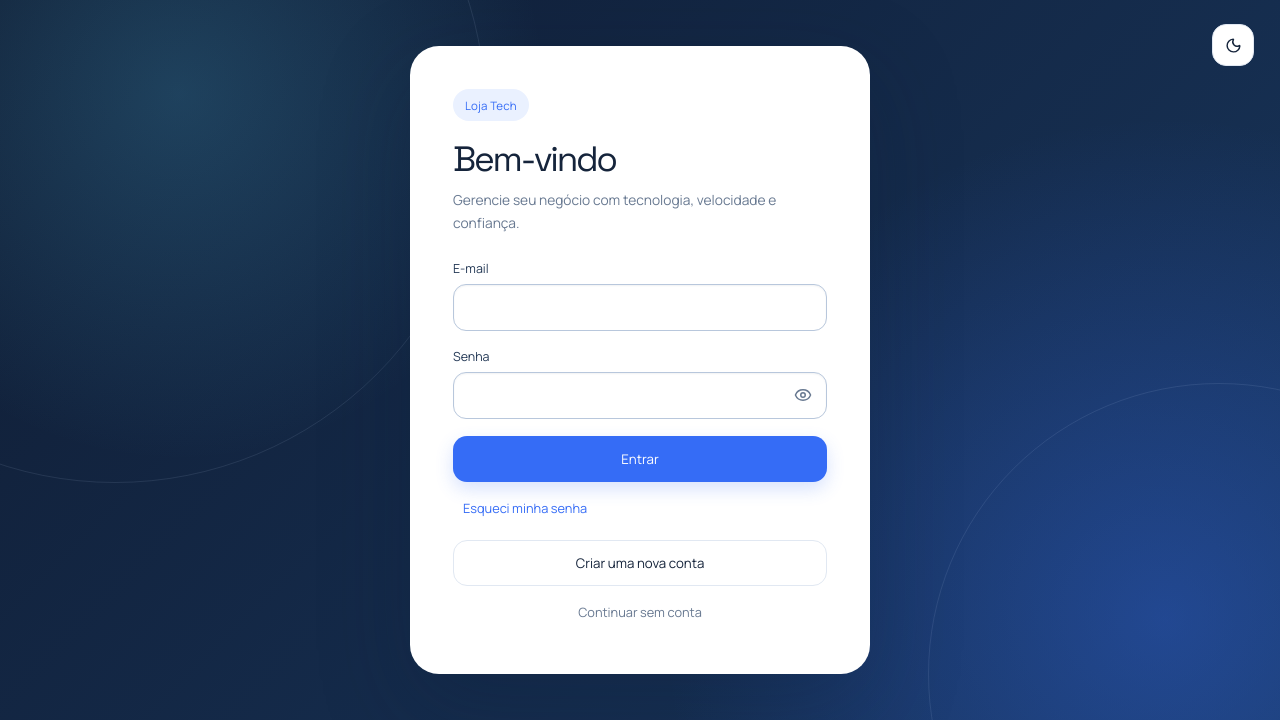
Test: recuperação de senha › o modo local abre diretamente a redefinição com o token recebido
Step 1. Click the button "Esqueci minha senha" → [525, 508], box left=453, top=489, right=597, bottom=527
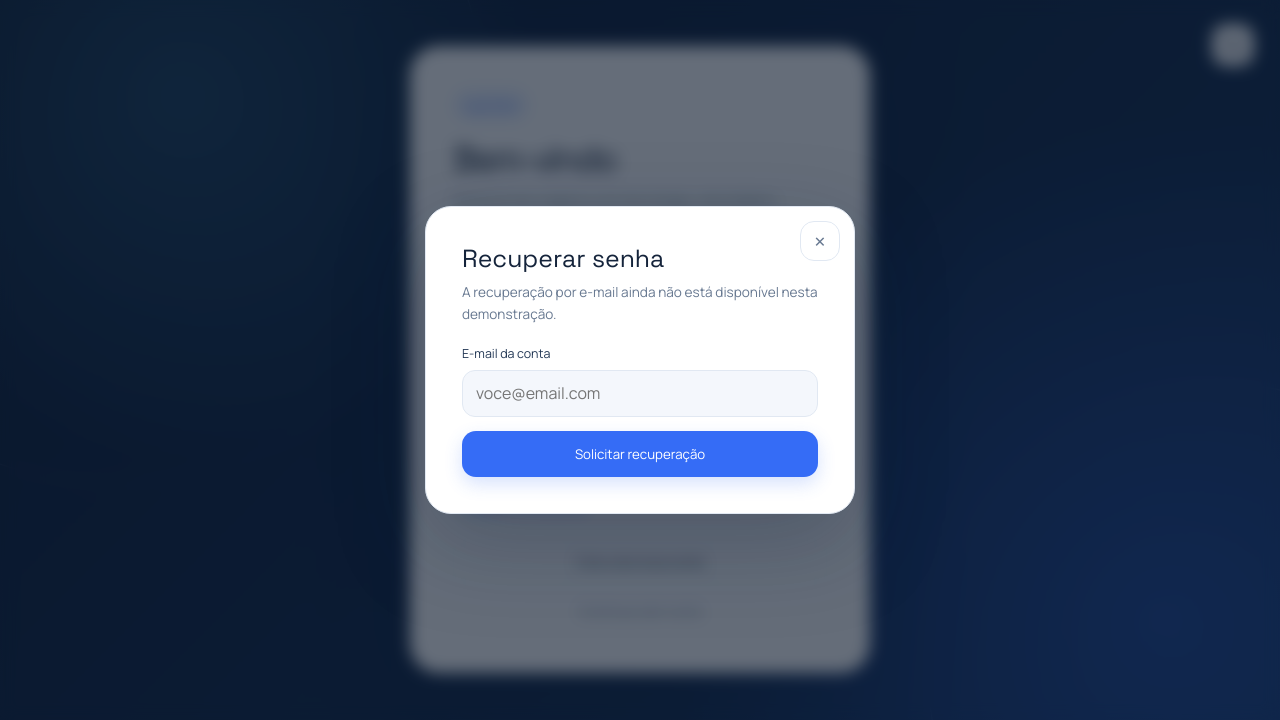
Step 2. Type "ana@exemplo.com" into the field labelled "E-mail da conta" → [640, 393], box left=462, top=370, right=818, bottom=417
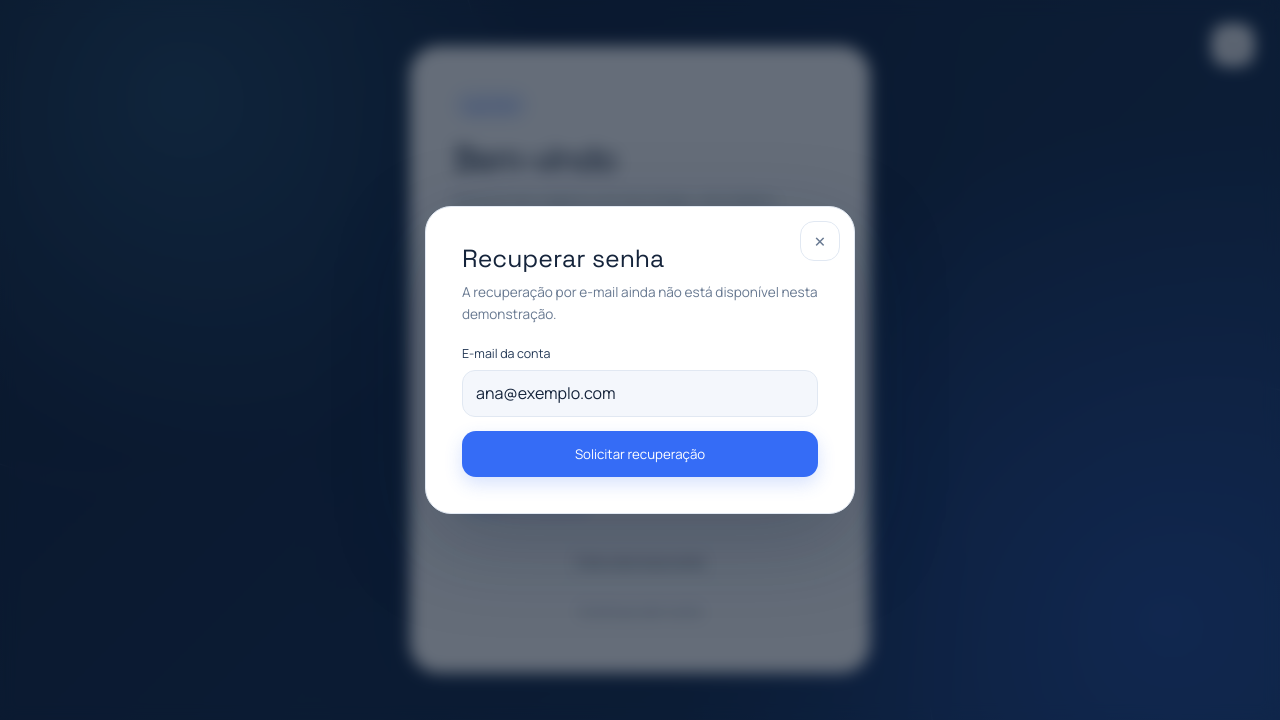
Step 3. Click the button "Solicitar recuperação" → [640, 454], box left=462, top=431, right=818, bottom=477
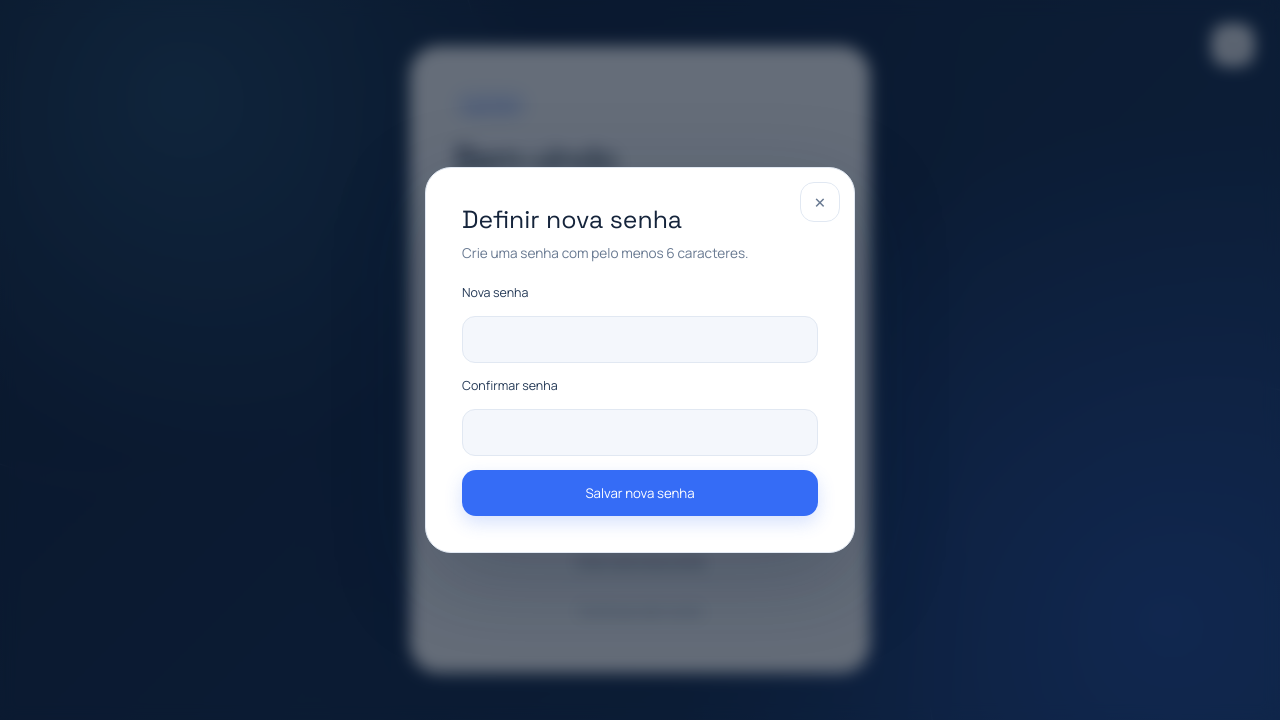
Expected: the dialog "Definir nova senha" is shown, left=425, top=167, right=855, bottom=553
